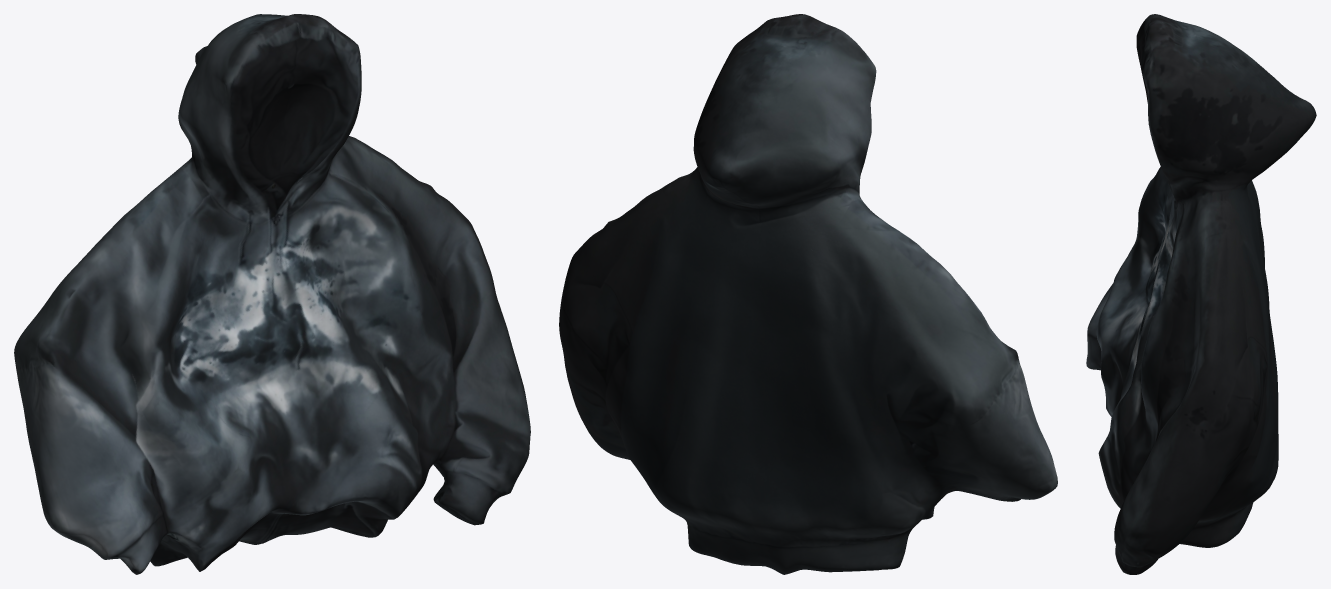
File: CJ dark grey zip hoodie.glb
3 views of the same model, side by side, from view 1: azimuth 30°, elevation 25°; view 2: azimuth 150°, elevation 25°; view 3: azimuth 270°, elevation 25° (orthographic). The views are drawn at different scales.
Size of the model in its own units: 1.1 by 1.2 by 0.5107.
1 material, 1 textured.
